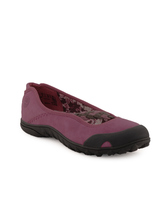shoes: (17, 77, 154, 158)
